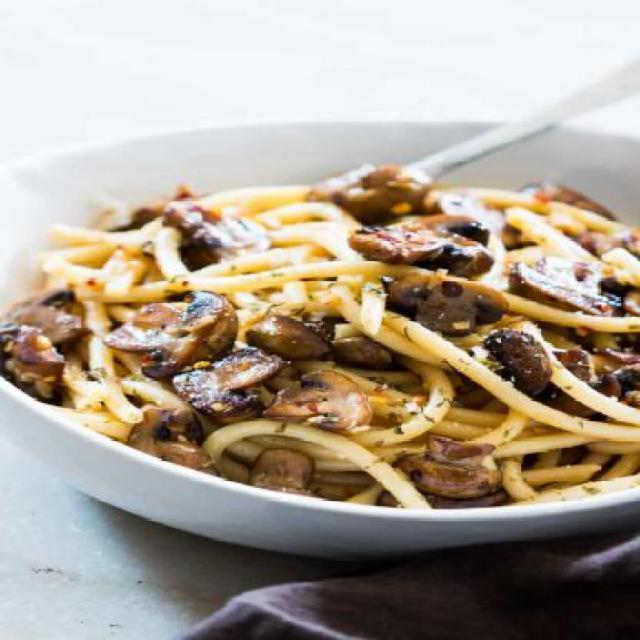Oil pasta: (42, 121, 636, 518)
